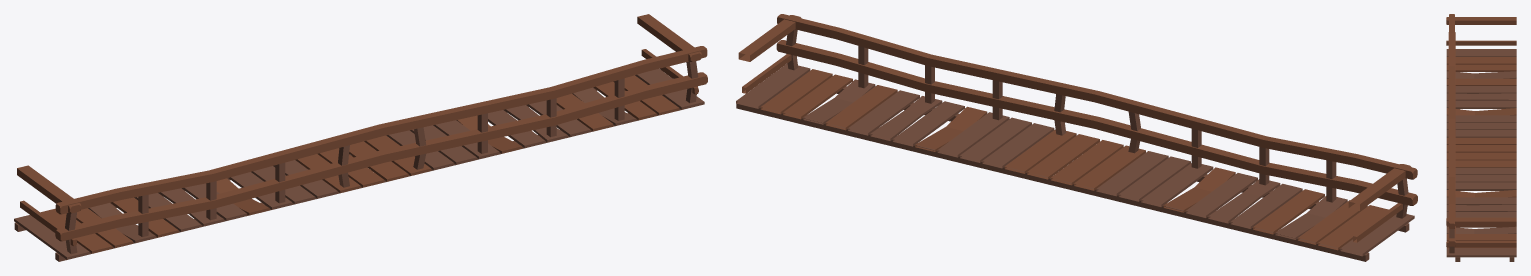
File: Balkon Asia.fbx
The picture shows the model from 3 angles, left to right: view 1: azimuth 30°, elevation 25°; view 2: azimuth 150°, elevation 25°; view 3: azimuth 270°, elevation 25°; orthographic projection. The views are drawn at different scales.
Parts seen in each view (by area): view 1: Balkon; view 2: Balkon; view 3: Balkon.
Part boxes in pixels (x1,y1,x2,y2): Balkon: [14, 14, 707, 261]; Balkon: [736, 14, 1417, 261]; Balkon: [1446, 14, 1516, 261].
Bounding box in the file's own units: 8.28 × 0.7288 × 1.18.
